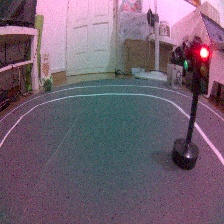red: (170, 37, 214, 176)
